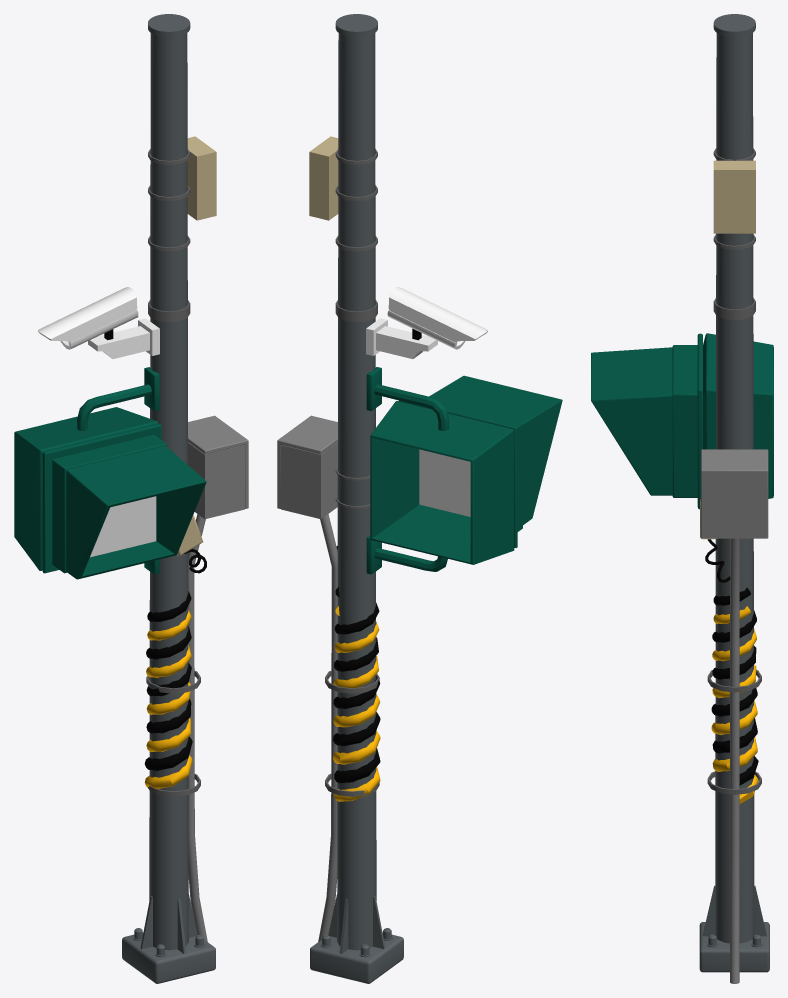
3 views of the same model, side by side, from view 1: azimuth 30°, elevation 25°; view 2: azimuth 150°, elevation 25°; view 3: azimuth 270°, elevation 25° (orthographic).
Visible parts, largest first — view 1: Cone, hole, Cube_1_2_2, cctv, Cube, display, Cylinder_6, Retopo_Sweep, Retopo_Sweep_2, Cube_1, Cube_2_2, Cube_2 (+3 smaller); view 2: Cone, hole, Cube_1_2_2, cctv, Cylinder_6, display, Cube, Retopo_Sweep_2, Retopo_Sweep, Cube_1, Cube_2_2, Cube_2 (+3 smaller); view 3: Cone, hole, Cube_2_2, Cylinder_6, Cube_1, Retopo_Sweep_2, Cube, Retopo_Sweep, Cylinder_5, Tube_2, Tube_1.
Boxes of the visible parts, x1,y1,x2,y2 form: Cone: [149, 33, 188, 950]; hole: [14, 407, 206, 579]; Cube_1_2_2: [188, 442, 244, 519]; cctv: [38, 287, 138, 349]; Cube: [122, 932, 215, 983]; display: [90, 496, 156, 557]; Cylinder_6: [188, 514, 207, 941]; Retopo_Sweep: [144, 609, 192, 788]; Retopo_Sweep_2: [144, 591, 192, 770]; Cube_1: [187, 136, 216, 220]; Cube_2_2: [188, 415, 248, 508]; Cube_2: [88, 318, 159, 358]; Cone: [337, 33, 376, 950]; hole: [370, 375, 562, 564]; Cube_1_2_2: [281, 442, 337, 519]; cctv: [387, 287, 487, 349]; Cylinder_6: [318, 514, 337, 941]; display: [419, 449, 470, 516]; Cube: [310, 932, 403, 983]; Retopo_Sweep_2: [333, 587, 380, 783]; Retopo_Sweep: [333, 606, 380, 801]; Cube_1: [309, 136, 338, 220]; Cube_2_2: [277, 415, 337, 508]; Cube_2: [366, 318, 437, 358]; Cone: [715, 33, 754, 943]; hole: [591, 333, 773, 509]; Cube_2_2: [701, 449, 768, 538]; Cylinder_6: [730, 538, 739, 983]; Cube_1: [713, 160, 755, 233]; Retopo_Sweep_2: [711, 587, 758, 785]; Cube: [699, 922, 769, 972]; Retopo_Sweep: [711, 606, 758, 803]; Cylinder_5: [713, 14, 755, 36]; Tube_2: [713, 298, 755, 320]; Tube_1: [707, 771, 761, 794].
Size of the model in its own units: 843 by 3704 by 652.
